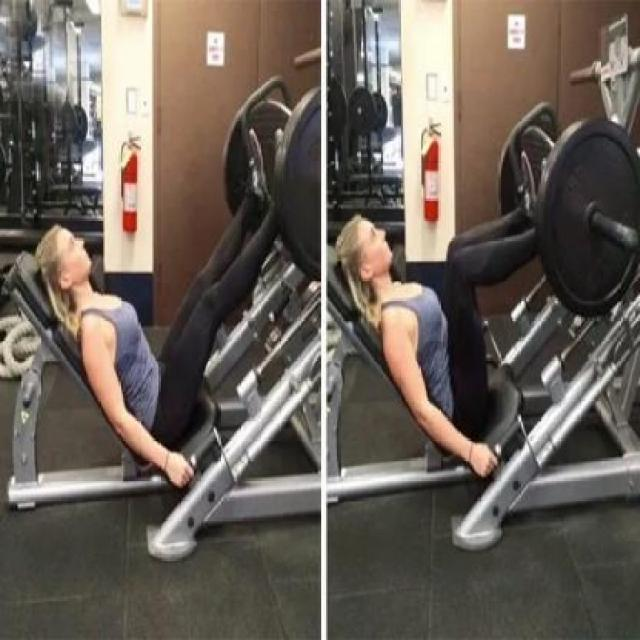leg press: (0, 77, 328, 577), (338, 79, 640, 566)
